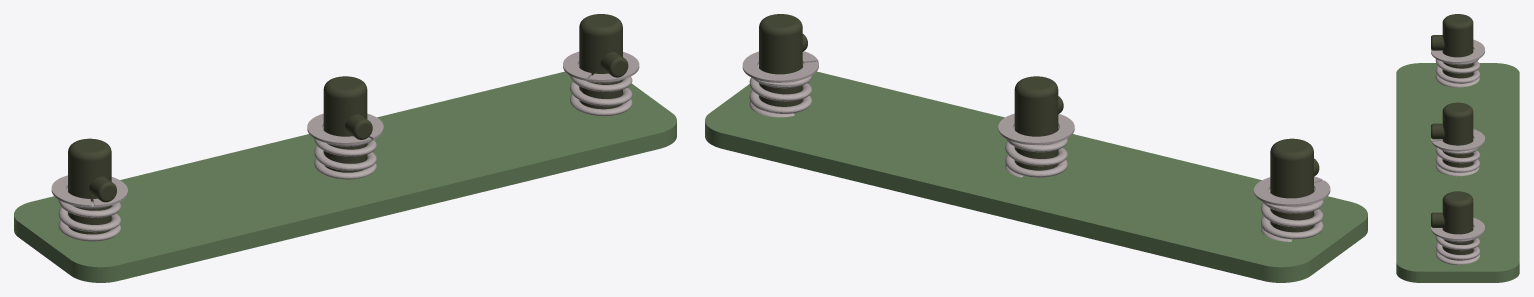
Rendered from accessoires_base_green.glb.
The picture shows the model from 3 angles, left to right: view 1: azimuth 30°, elevation 25°; view 2: azimuth 150°, elevation 25°; view 3: azimuth 270°, elevation 25°; orthographic projection. The views are drawn at different scales.
Size of the model in its own units: 0.2 by 0.0318 by 0.05.
